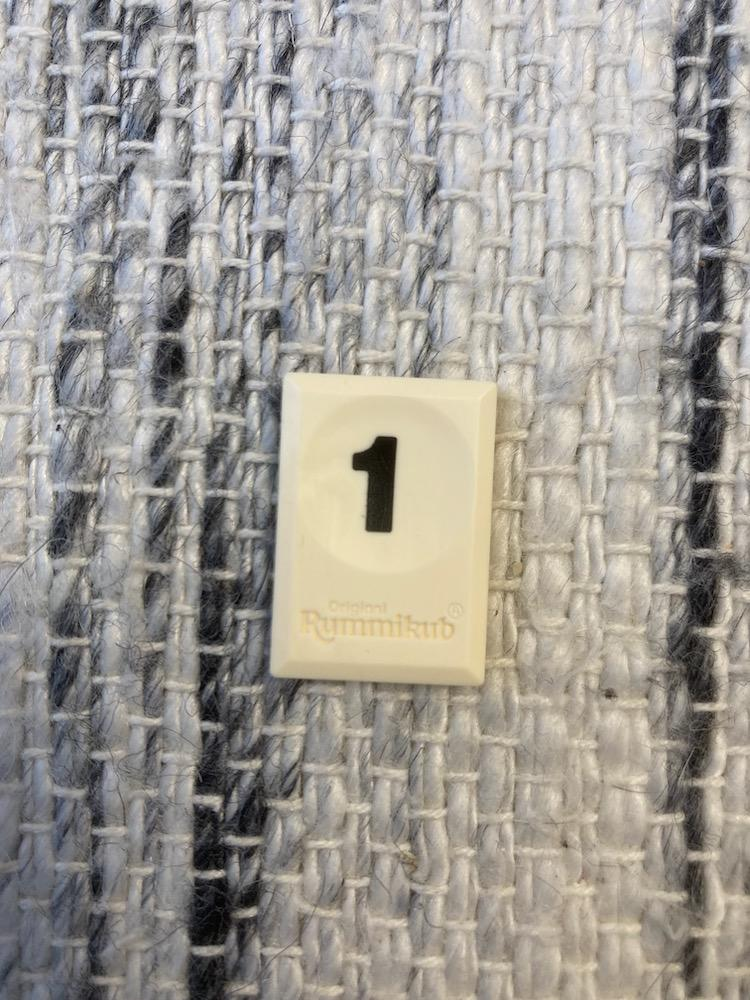black_1: (271, 373, 496, 684)
